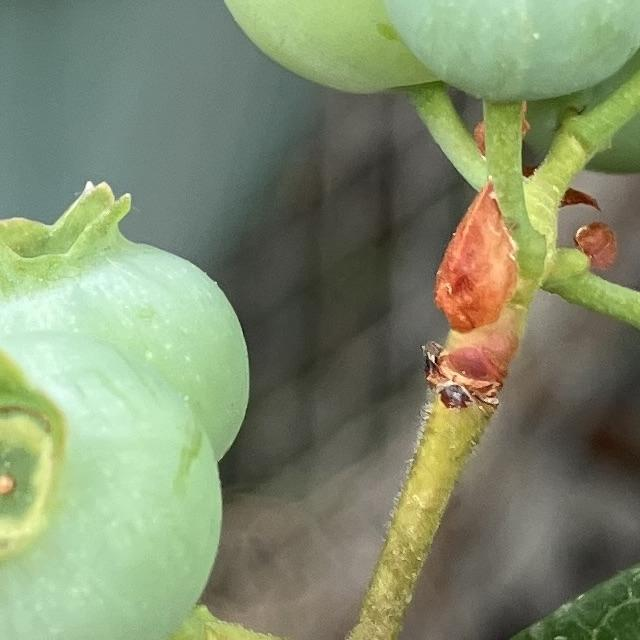Blueberries: (365, 0, 640, 119)
